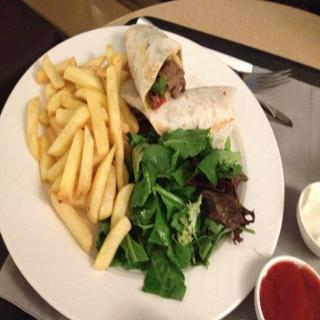French fries: (23, 40, 142, 274)
